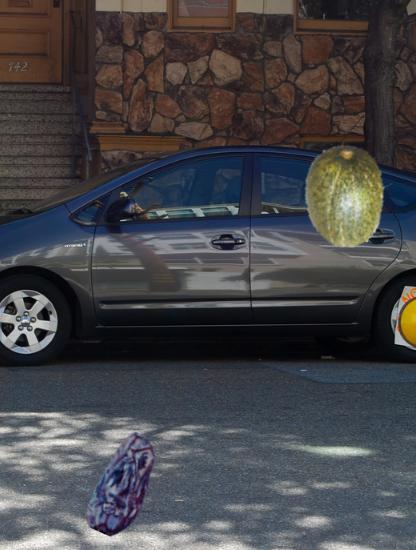Dates: (71, 431, 179, 539)
Melon: (297, 144, 399, 246)
